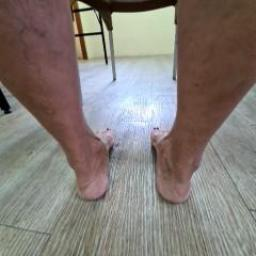Back View -Both Feet-: (21, 104, 234, 216)
